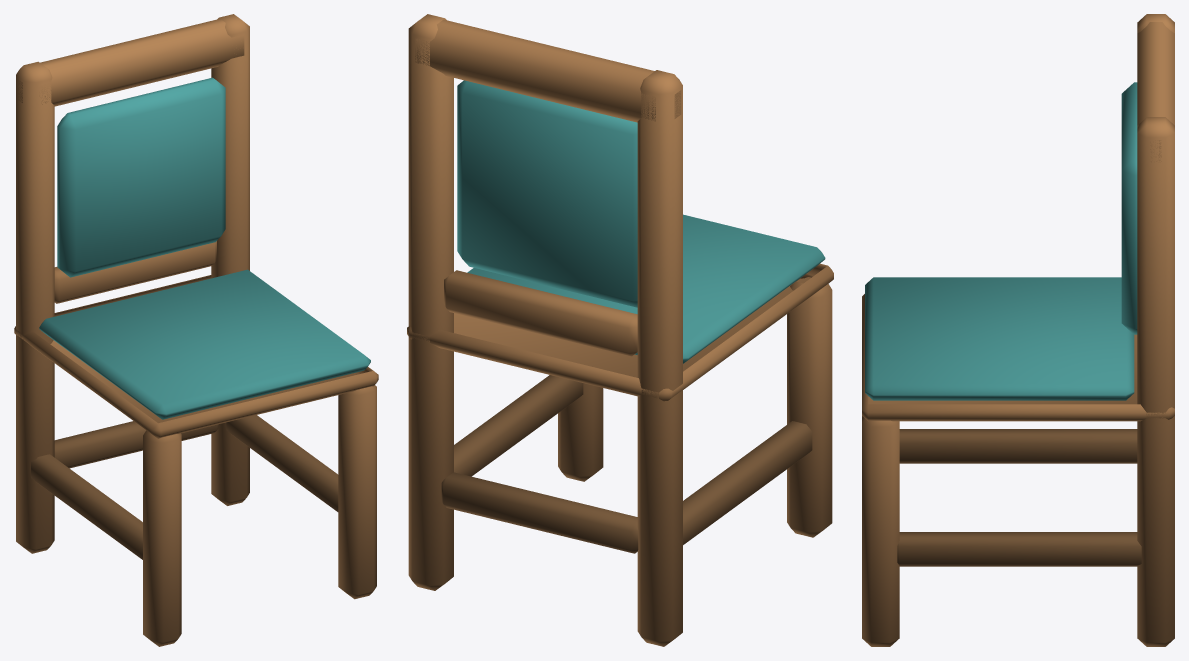
Rendered from DiningChair_Padded_01.glb.
3 renders of one model, left to right at view 1: azimuth 30°, elevation 25°; view 2: azimuth 150°, elevation 25°; view 3: azimuth 270°, elevation 25°, orthographic. The views are drawn at different scales.
Visible parts, largest first — view 1: SM_DiningChair_Padded_01; view 2: SM_DiningChair_Padded_01; view 3: SM_DiningChair_Padded_01.
Boxes of the visible parts, <box> form: SM_DiningChair_Padded_01: <box>14,14,378,646</box>; SM_DiningChair_Padded_01: <box>407,14,833,646</box>; SM_DiningChair_Padded_01: <box>862,14,1174,646</box>.
Bounding box in the file's own units: 0.45 × 0.92 × 0.5.
1 material, 1 textured.
